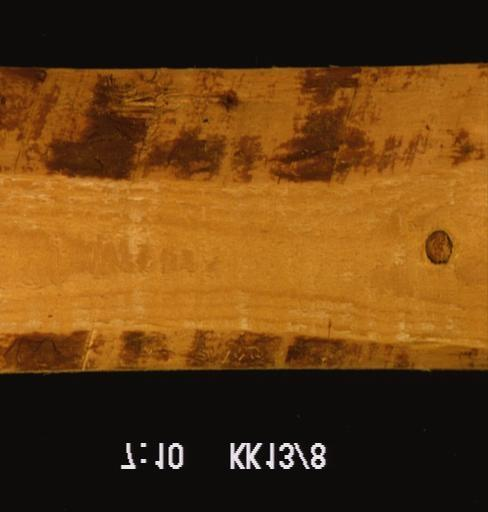dry_knot: (421, 229, 453, 266)
wave: (0, 68, 487, 183), (0, 327, 485, 369)
